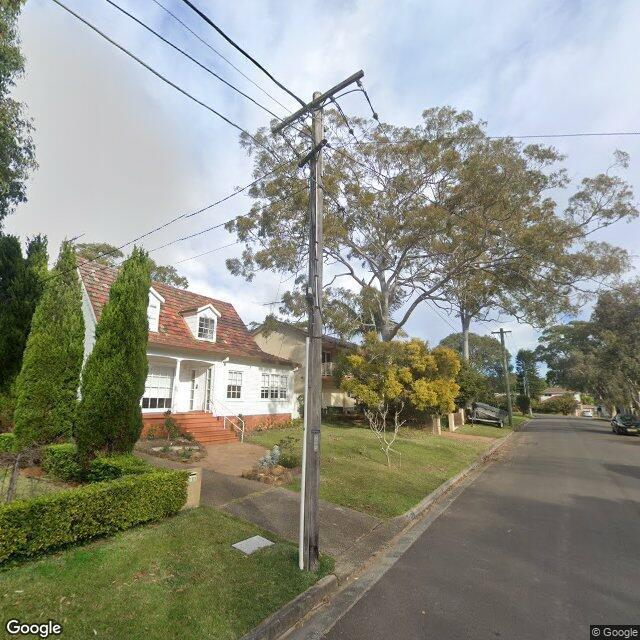crossarm: (271, 69, 365, 134), (298, 138, 328, 167), (491, 330, 512, 334)
timber-pole: (299, 90, 323, 572), (500, 328, 513, 427)
